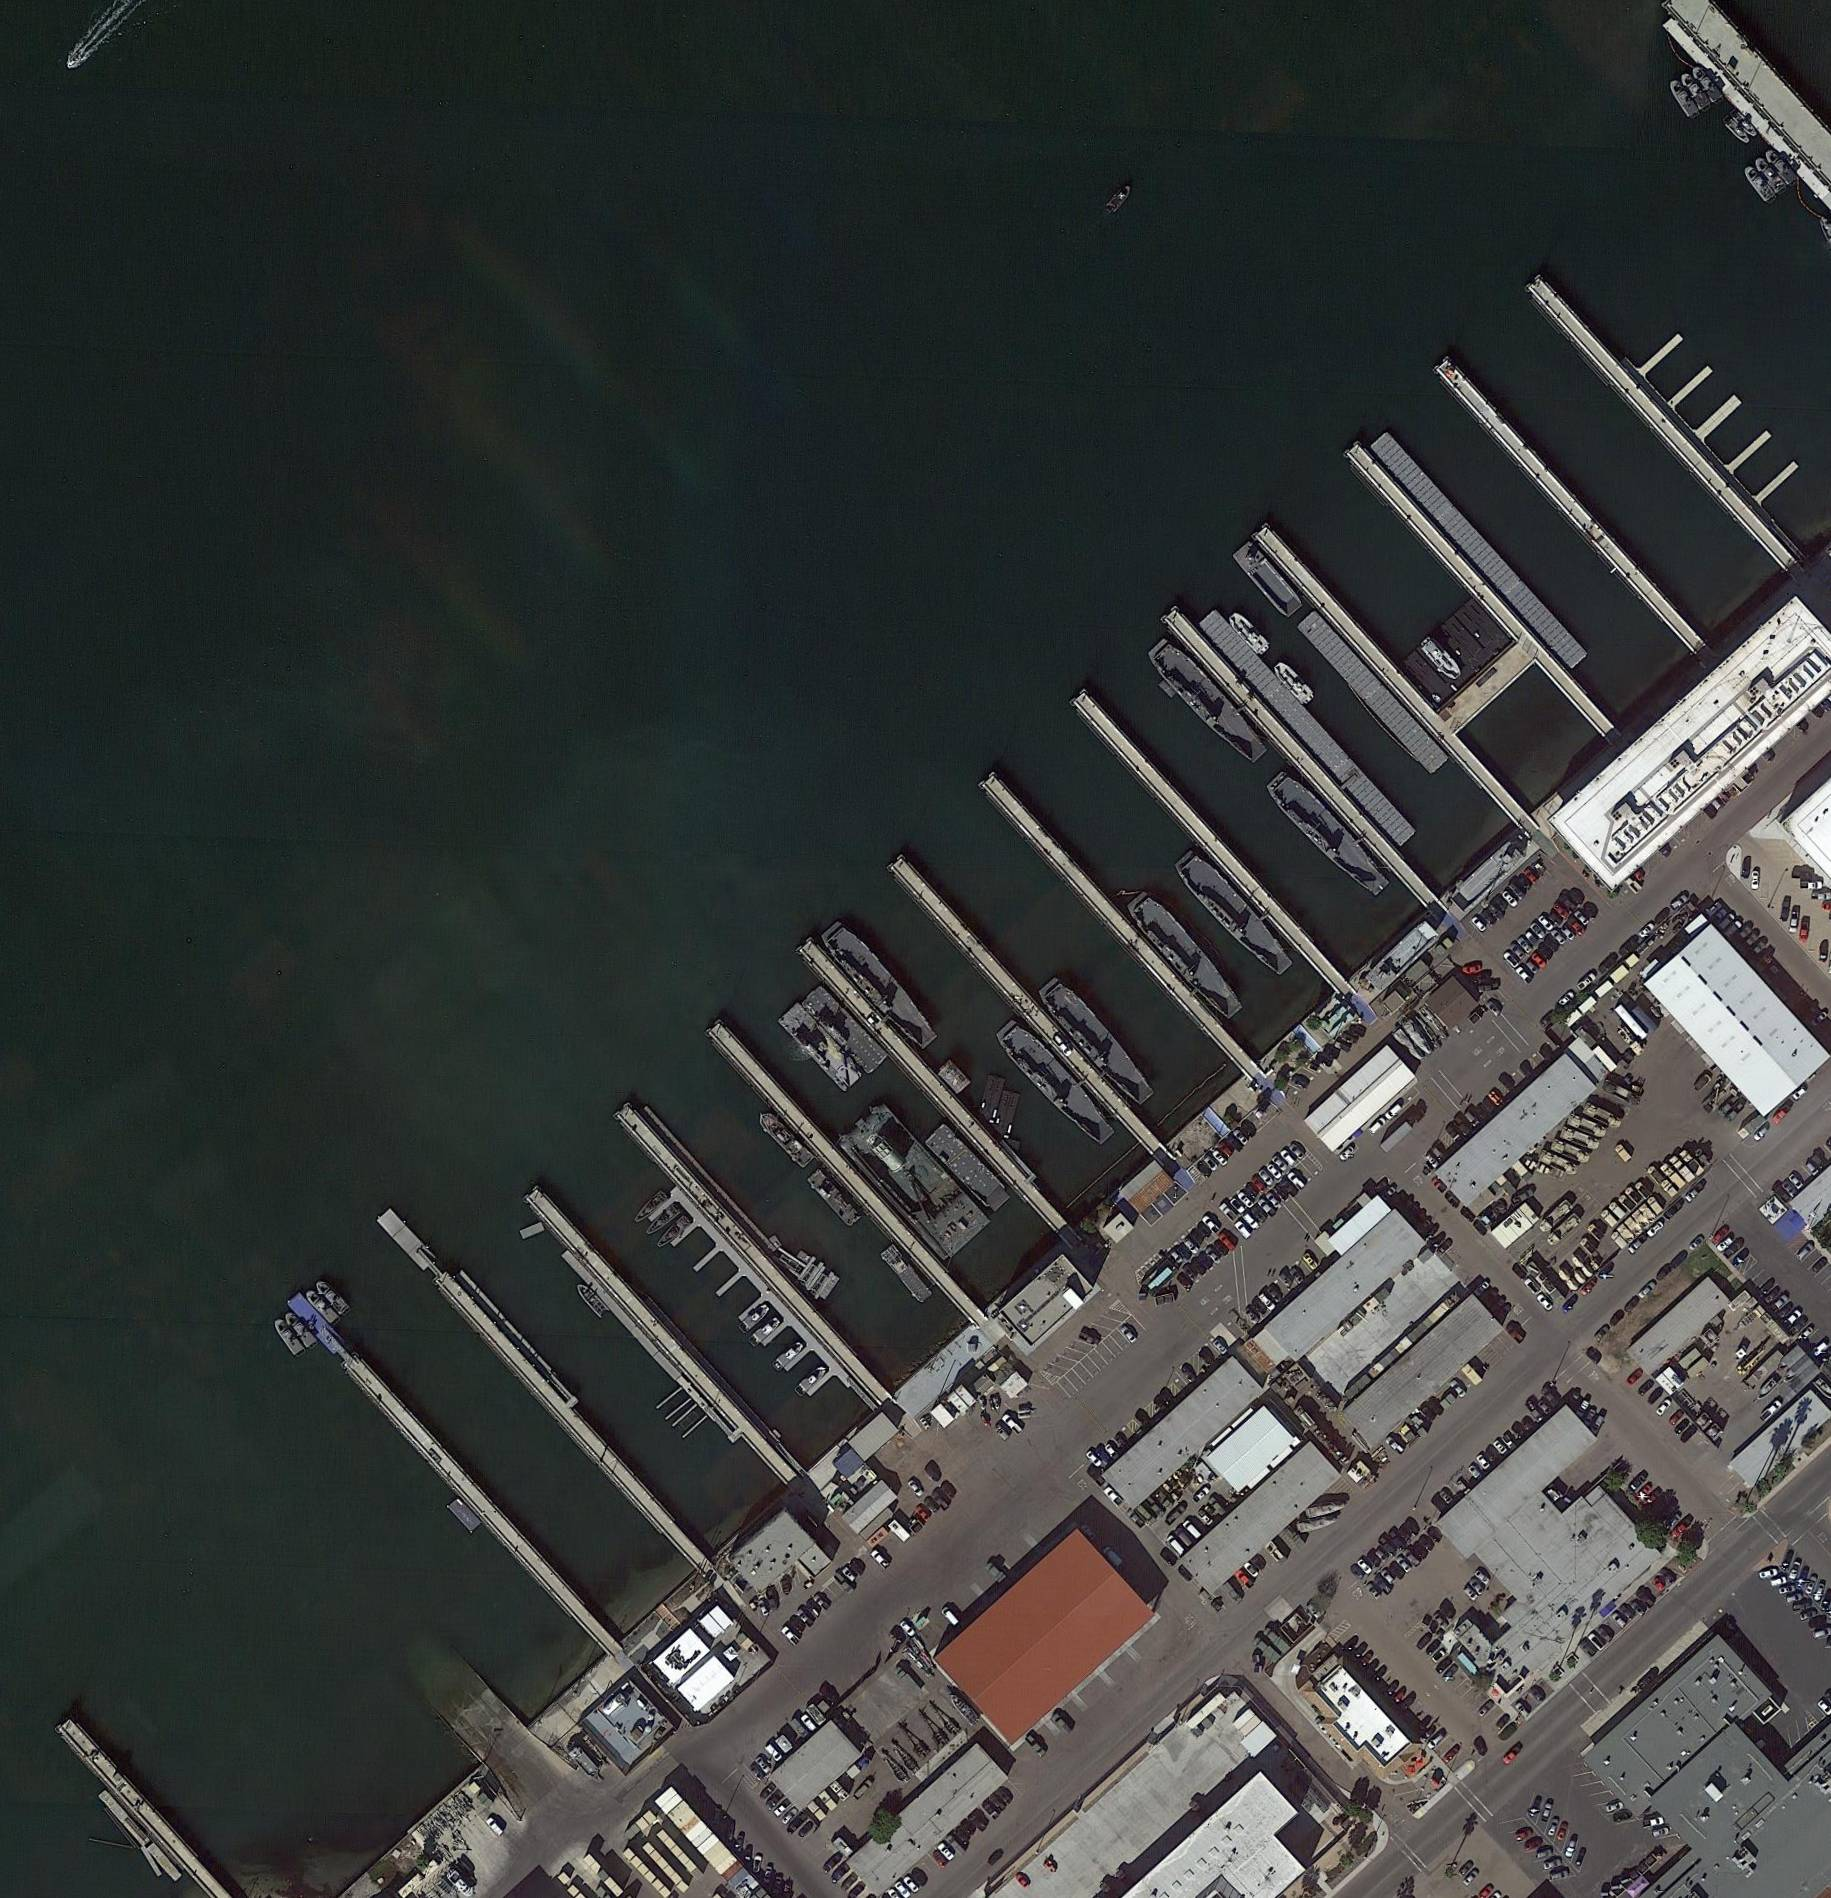harbor: (287, 1293, 604, 1639), (376, 1207, 676, 1534), (582, 1103, 875, 1422), (1529, 236, 1819, 546), (1161, 608, 1438, 908), (978, 773, 1249, 1068), (1071, 691, 1343, 986), (1436, 358, 1704, 651), (1344, 442, 1611, 734), (707, 1022, 971, 1307), (514, 1188, 776, 1474), (797, 941, 1056, 1224), (1255, 525, 1514, 807), (888, 857, 1143, 1130), (1661, 2, 1831, 197), (58, 1717, 236, 1898)
ship: (988, 1017, 1122, 1154), (1261, 768, 1395, 903), (1170, 846, 1300, 985), (815, 918, 946, 1057), (1143, 634, 1273, 771), (1121, 886, 1249, 1025), (1034, 973, 1160, 1112), (754, 1107, 815, 1173), (1226, 608, 1273, 659), (1417, 635, 1465, 685), (1272, 659, 1317, 708), (303, 1286, 342, 1329), (271, 1317, 309, 1361), (1751, 154, 1789, 198), (1741, 163, 1778, 207), (314, 1278, 353, 1318), (573, 1279, 610, 1322), (1763, 146, 1800, 188), (1667, 76, 1700, 122), (283, 1312, 320, 1352), (631, 1190, 671, 1227), (654, 1213, 692, 1252), (1678, 71, 1712, 114), (644, 1203, 682, 1240), (1692, 64, 1724, 107), (793, 1362, 827, 1400), (748, 1315, 783, 1349), (737, 1301, 771, 1335), (771, 1340, 805, 1373), (1729, 108, 1760, 141), (1722, 115, 1753, 146)
